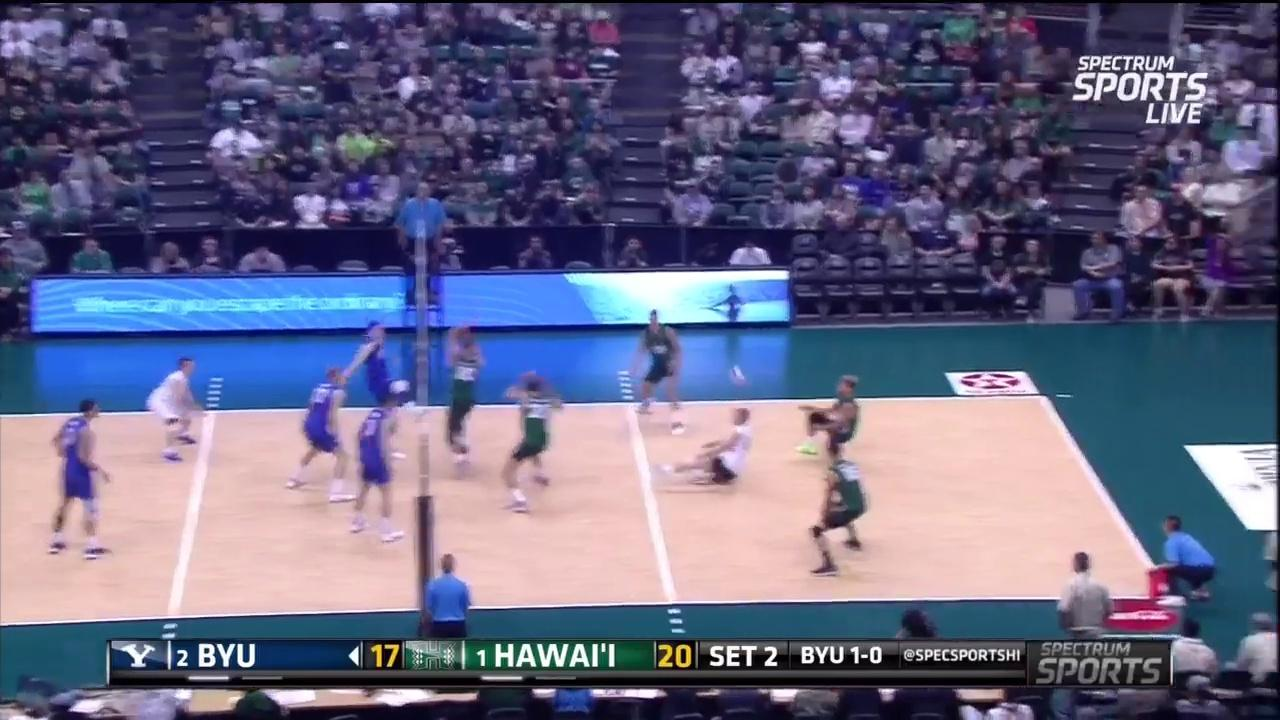player: (335, 320, 411, 464), (283, 365, 358, 506), (49, 403, 115, 556), (803, 439, 873, 581), (348, 389, 410, 541), (656, 404, 758, 496), (500, 368, 562, 511), (792, 368, 873, 472), (149, 359, 206, 463), (624, 313, 681, 415), (446, 327, 481, 454)
refree: (1139, 517, 1218, 605), (396, 182, 448, 310), (420, 547, 475, 640)
